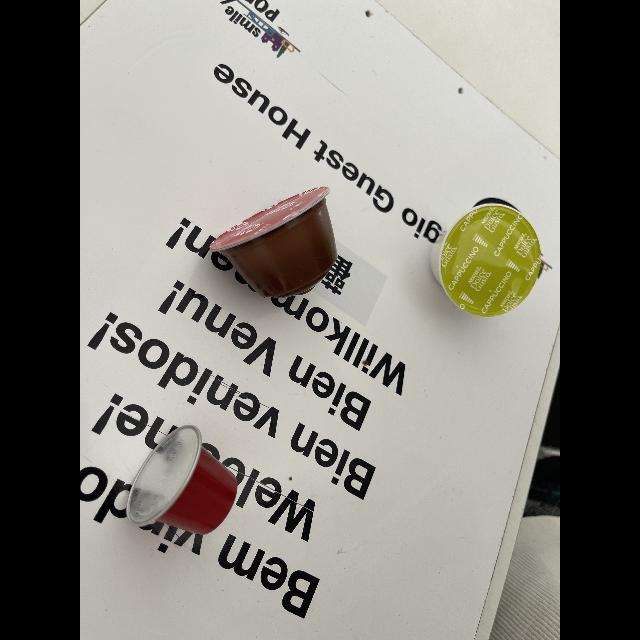intact_capsule: (122, 414, 252, 556), (212, 181, 342, 307), (430, 196, 544, 320)
